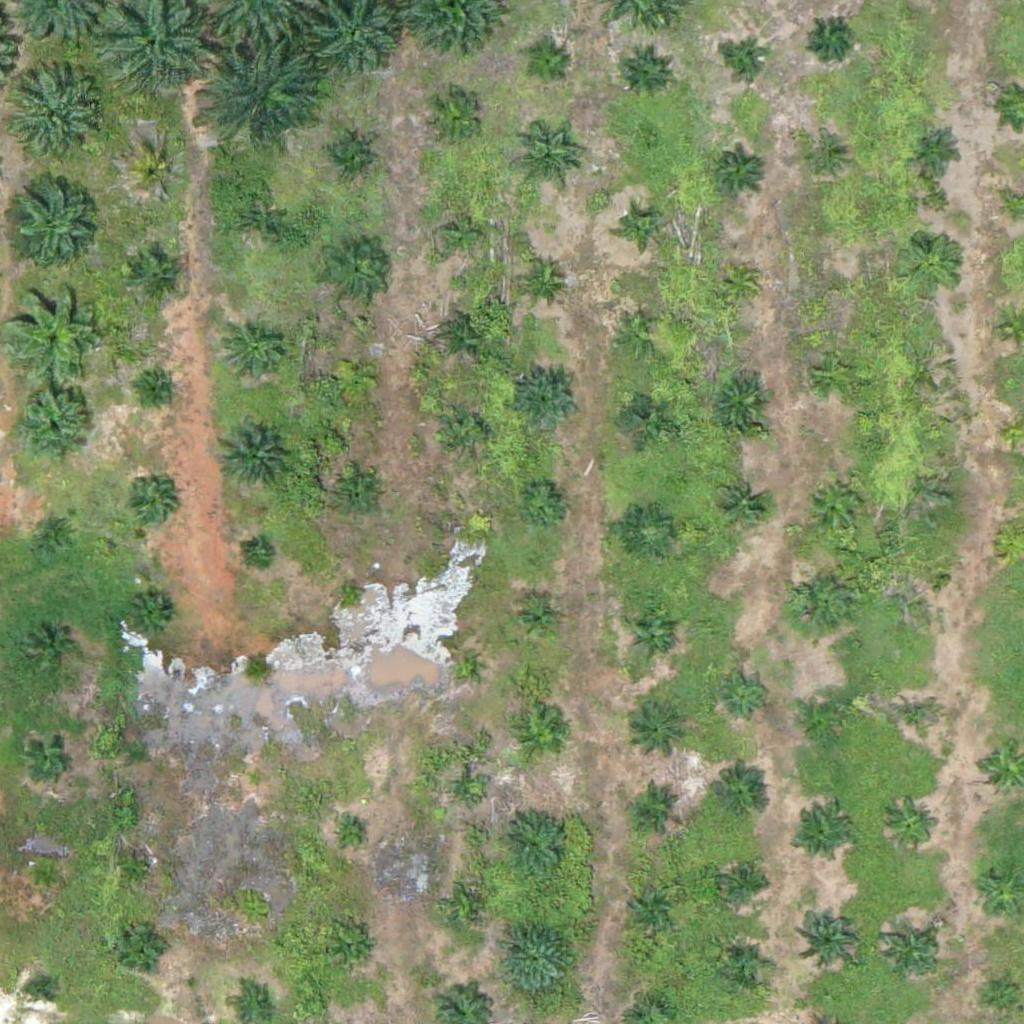Kelapa_Sawit: (202, 32, 327, 158), (3, 281, 103, 382), (16, 75, 104, 164), (10, 382, 98, 470), (10, 171, 97, 259), (495, 806, 570, 882), (499, 920, 574, 996), (216, 418, 291, 494), (629, 699, 692, 762), (514, 132, 577, 195), (420, 86, 483, 149), (787, 570, 850, 633), (516, 368, 579, 431), (431, 203, 494, 266), (708, 768, 771, 831), (792, 806, 854, 869), (880, 920, 942, 983), (796, 903, 858, 966), (324, 241, 386, 304), (224, 320, 286, 383), (711, 372, 773, 435), (805, 473, 867, 536), (901, 233, 963, 296), (228, 190, 290, 253), (886, 799, 936, 850), (117, 921, 167, 972), (623, 507, 673, 558), (621, 389, 671, 440), (441, 311, 491, 362), (517, 254, 567, 305), (442, 405, 492, 456), (321, 132, 371, 183), (330, 351, 380, 402), (518, 478, 568, 529), (716, 478, 766, 529), (890, 693, 940, 744), (802, 691, 852, 742), (720, 668, 770, 719), (628, 610, 678, 661), (131, 249, 181, 299), (621, 47, 671, 97), (517, 712, 567, 762), (715, 145, 765, 195), (911, 124, 961, 174), (811, 349, 861, 399), (614, 309, 664, 359), (522, 42, 572, 92), (336, 472, 386, 522), (718, 857, 768, 907), (720, 941, 770, 991), (626, 877, 676, 927), (631, 782, 681, 832), (513, 595, 563, 645), (125, 478, 175, 528), (128, 592, 178, 642), (25, 731, 75, 781), (25, 624, 75, 674), (32, 510, 82, 560), (132, 149, 182, 199), (812, 17, 850, 55), (720, 263, 758, 301), (623, 208, 661, 246), (335, 933, 372, 971), (729, 43, 766, 81), (806, 141, 843, 179), (818, 270, 855, 308), (901, 568, 938, 606), (26, 857, 64, 894), (119, 851, 156, 889), (984, 976, 1021, 1013), (245, 541, 270, 567), (457, 897, 482, 923), (450, 652, 475, 677), (455, 780, 480, 805), (338, 823, 363, 848), (338, 579, 363, 604), (28, 978, 53, 1003), (146, 377, 171, 402), (244, 768, 269, 793)
